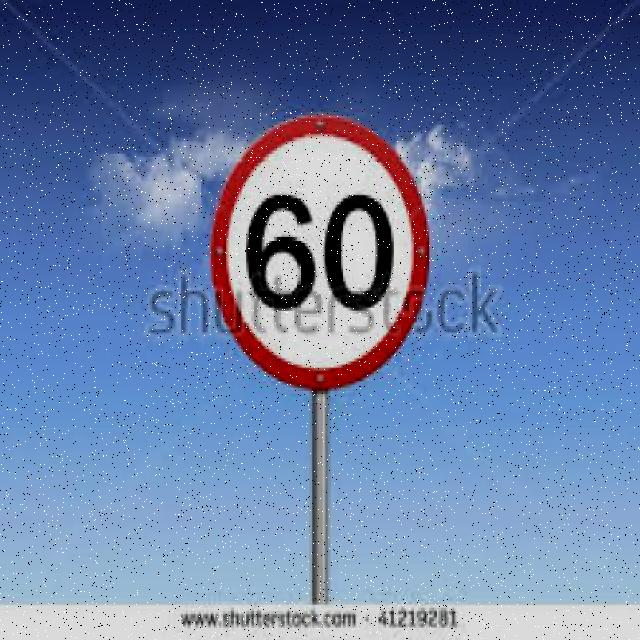Ograniczenie predkosci do 60: (210, 114, 432, 380)
